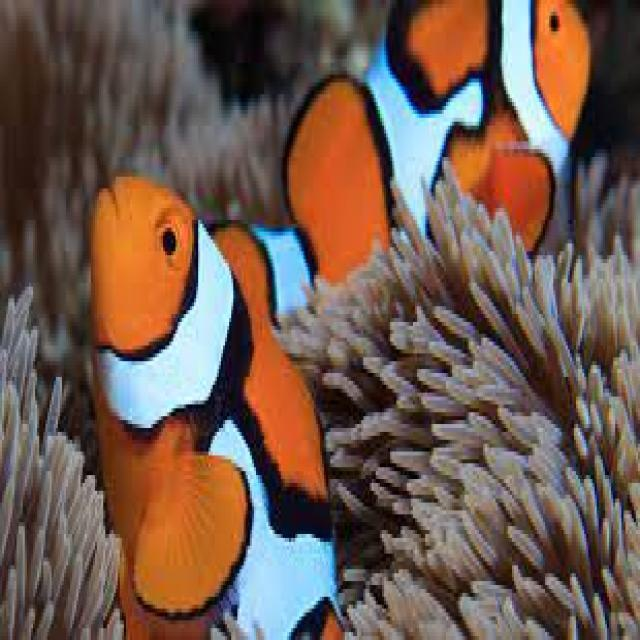ClownFish: (80, 174, 341, 640), (284, 0, 589, 283)
